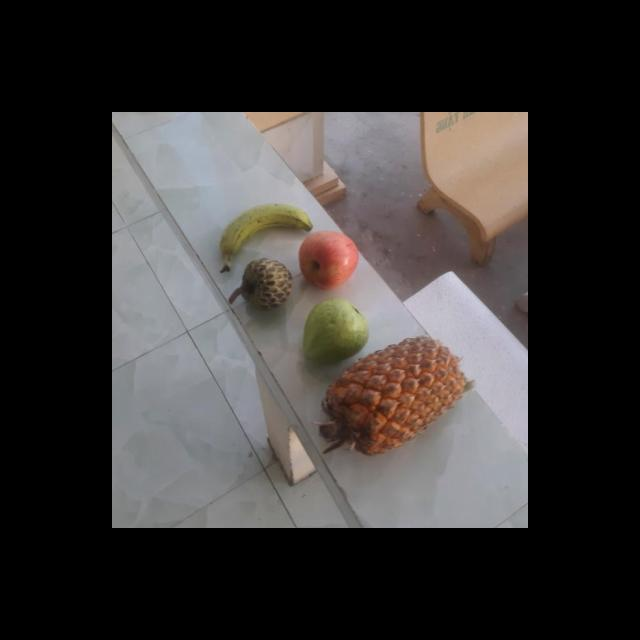Sakya fruit: (236, 258, 296, 310)
apple: (298, 232, 360, 288)
banana: (219, 204, 320, 272)
guava: (304, 298, 372, 365)
pineapple: (323, 338, 469, 458)
